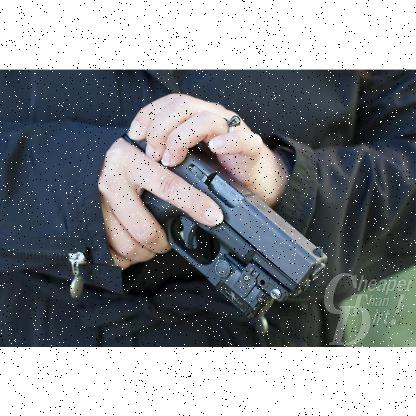gun: (120, 135, 326, 319)
